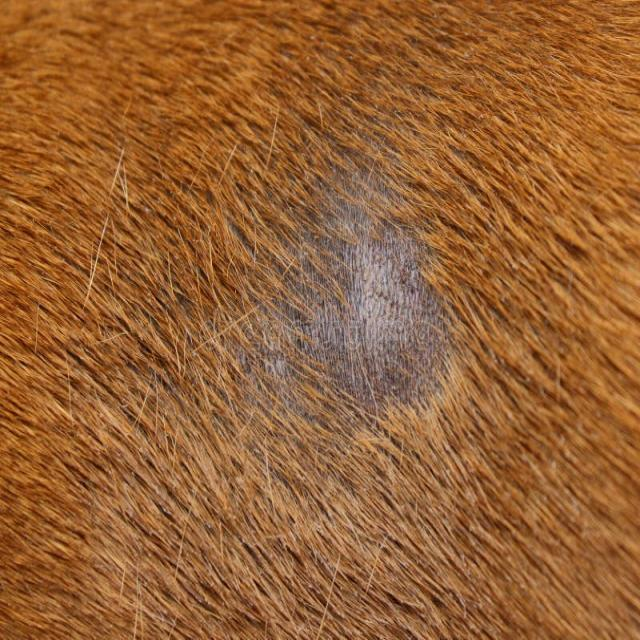fungal infection: (274, 168, 460, 405)
